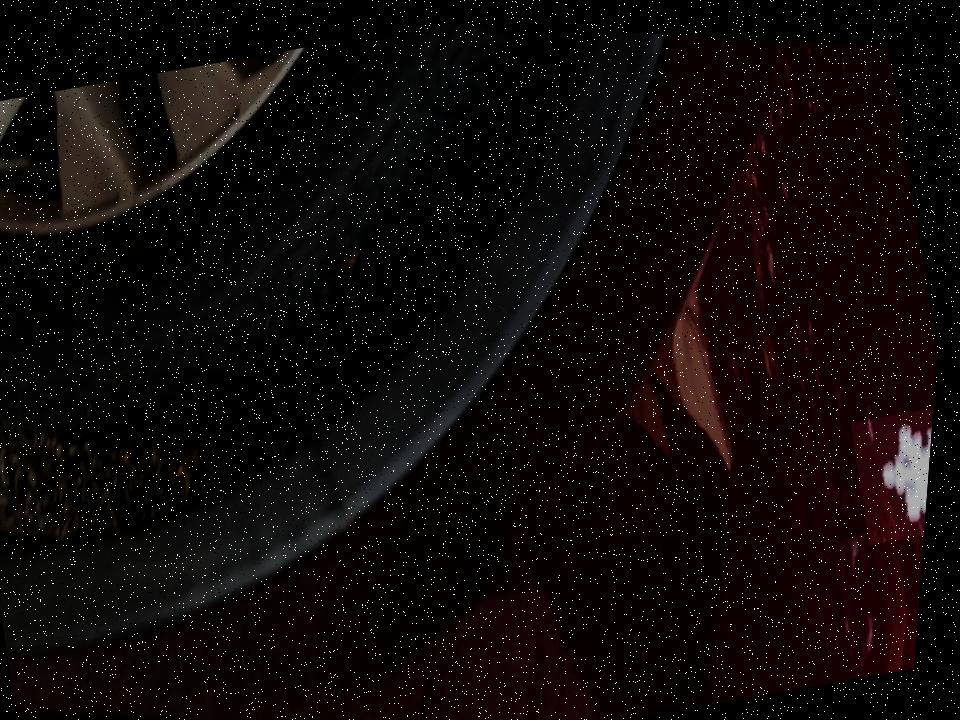dent: (849, 391, 939, 536)
